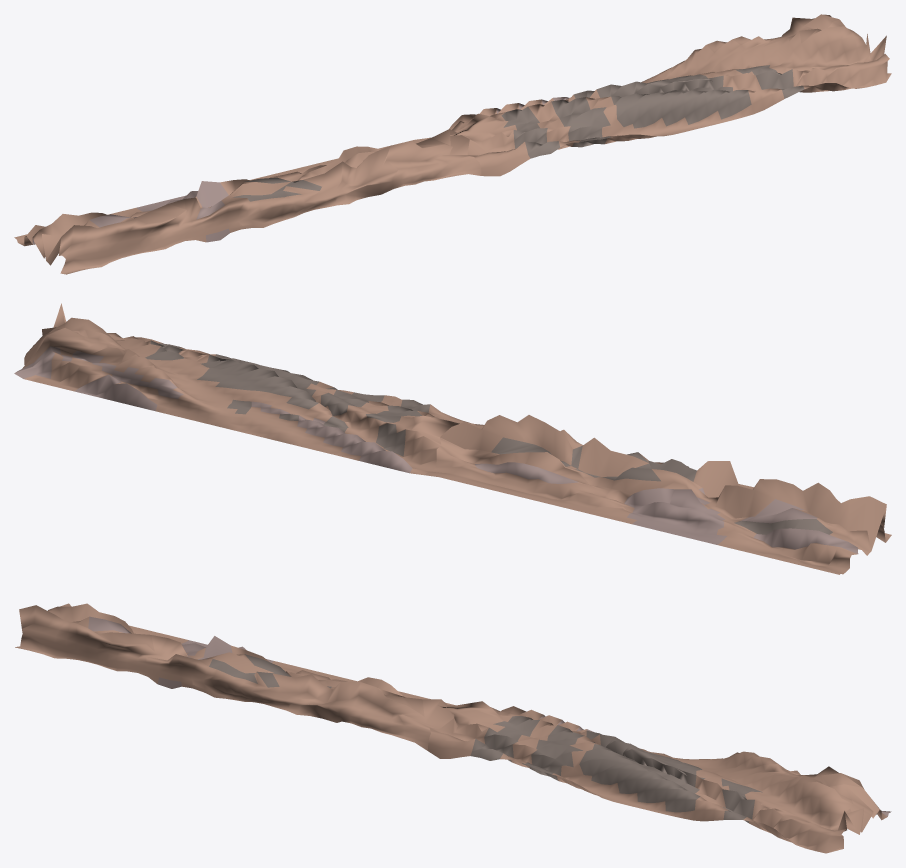
Rendered from kalni.fbx.
3 renders of one model, top to bottom at view 1: azimuth 30°, elevation 25°; view 2: azimuth 150°, elevation 25°; view 3: azimuth 330°, elevation 25°, orthographic.
Visible parts, largest first — view 1: polySurface144; view 2: polySurface144; view 3: polySurface144.
Part boxes in pixels (x1,y1,x2,y2): polySurface144: (14, 14, 891, 274); polySurface144: (14, 303, 891, 574); polySurface144: (15, 603, 891, 853).
Bounding box in the file's own units: 203 × 13.46 × 24.54.
